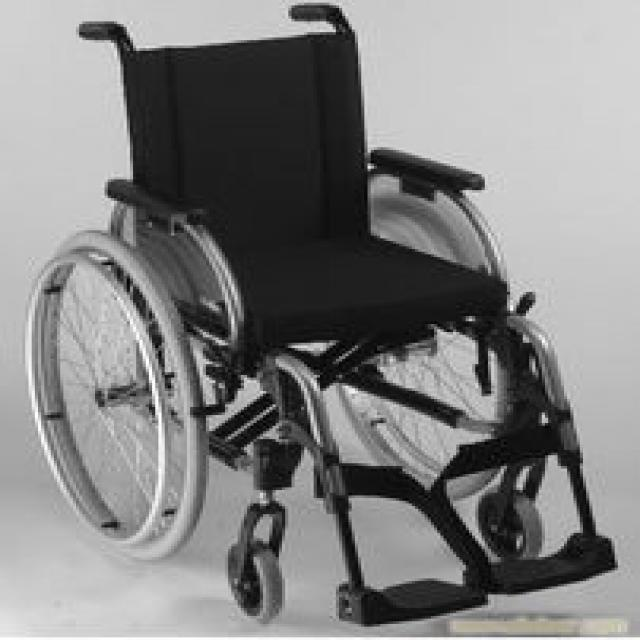wheelchairs: (27, 6, 618, 623)
